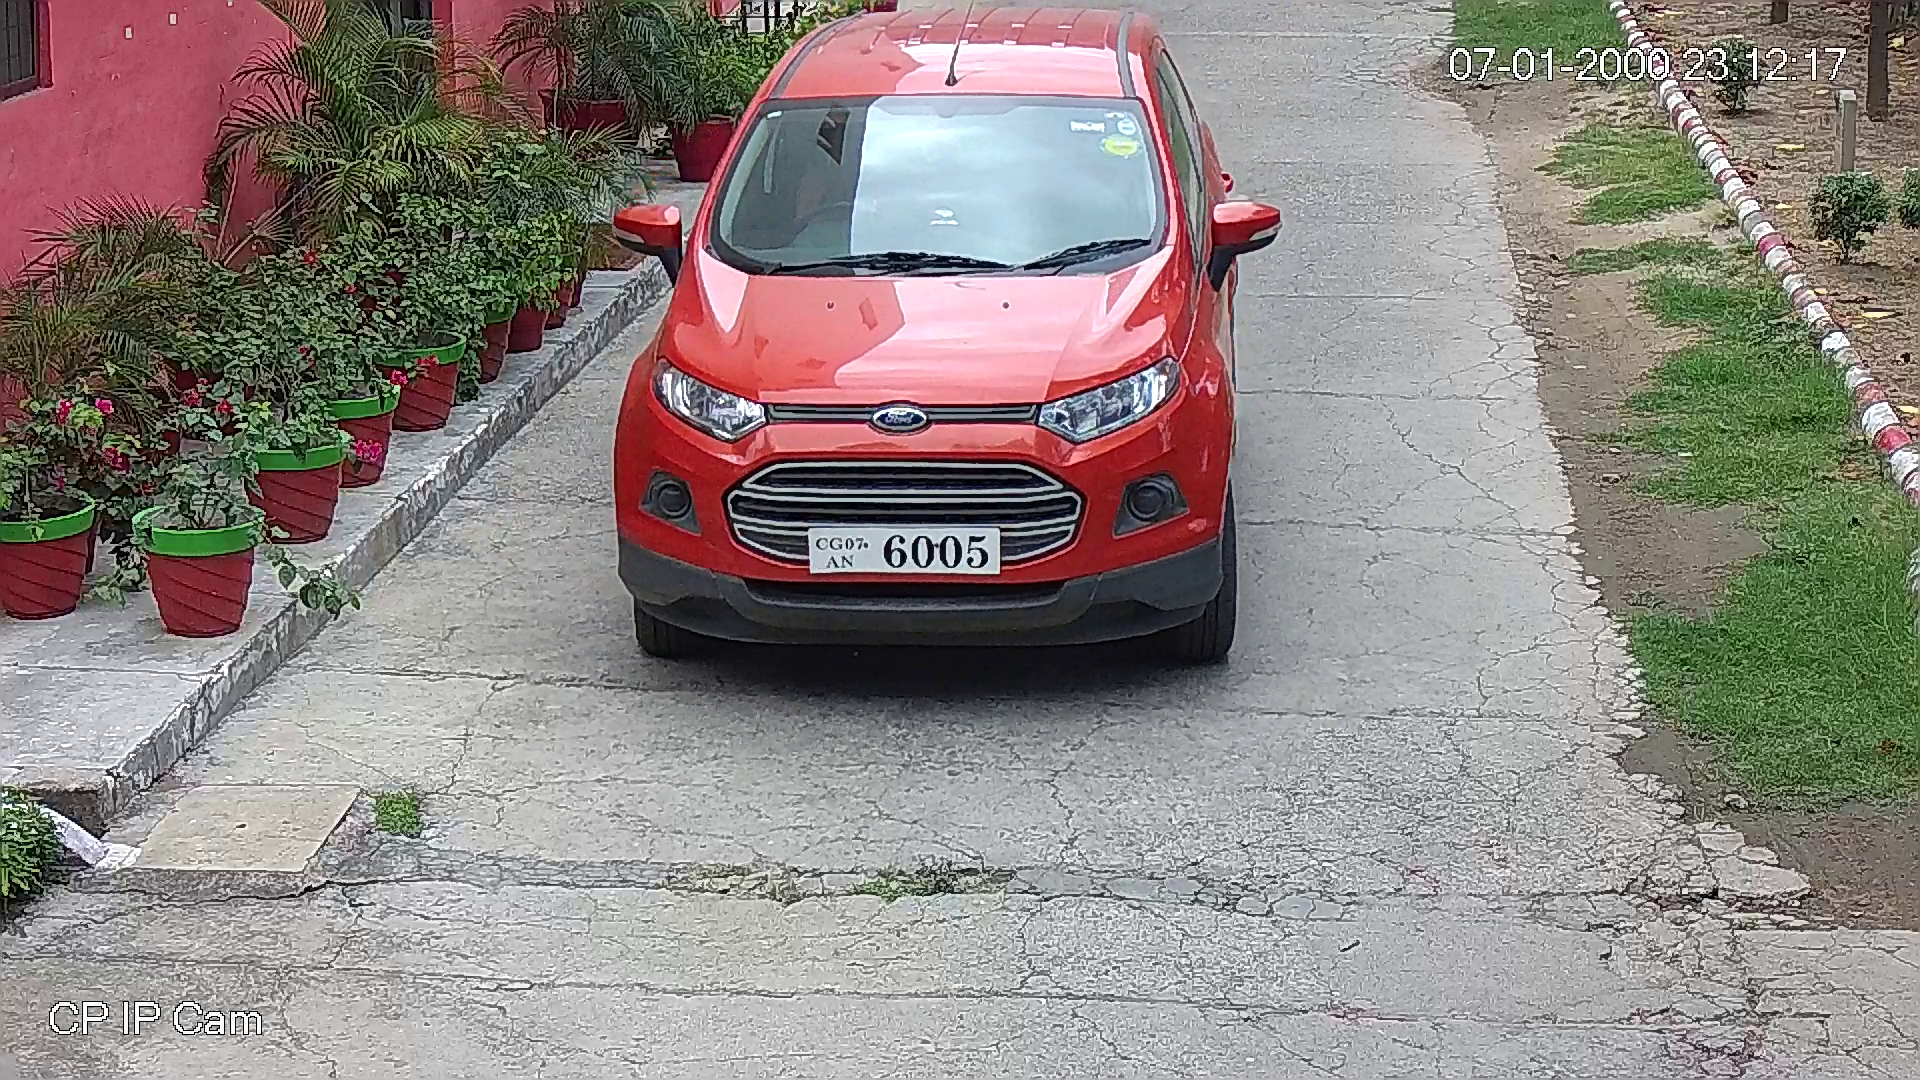plate: (810, 526, 1001, 574)
